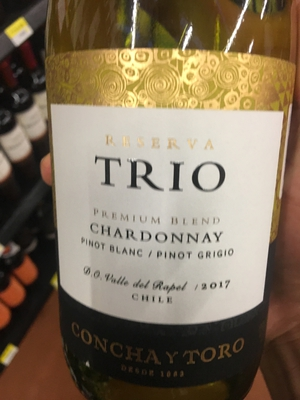trio chardonnay: (40, 18, 298, 396)
